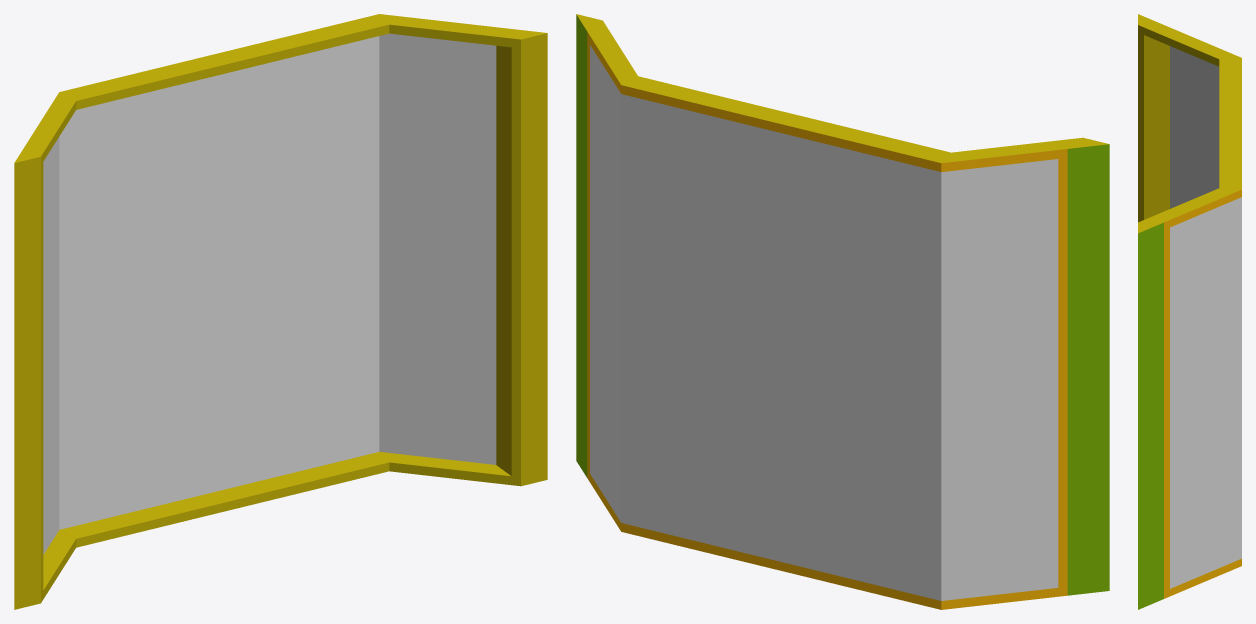
The model's file is window_panoramic_5x1x4.dae.
3 renders of one model, left to right at view 1: azimuth 30°, elevation 25°; view 2: azimuth 150°, elevation 25°; view 3: azimuth 270°, elevation 25°, orthographic. The views are drawn at different scales.
Parts seen in each view (by area): view 1: Cube; view 2: Cube; view 3: Cube.
Part boxes in pixels (x1=…): Cube: x1=14, y1=14, x2=547, y2=609; Cube: x1=576, y1=14, x2=1109, y2=609; Cube: x1=1138, y1=14, x2=1241, y2=609.
Size of the model in its own units: 1.25 by 0.25 by 1.
